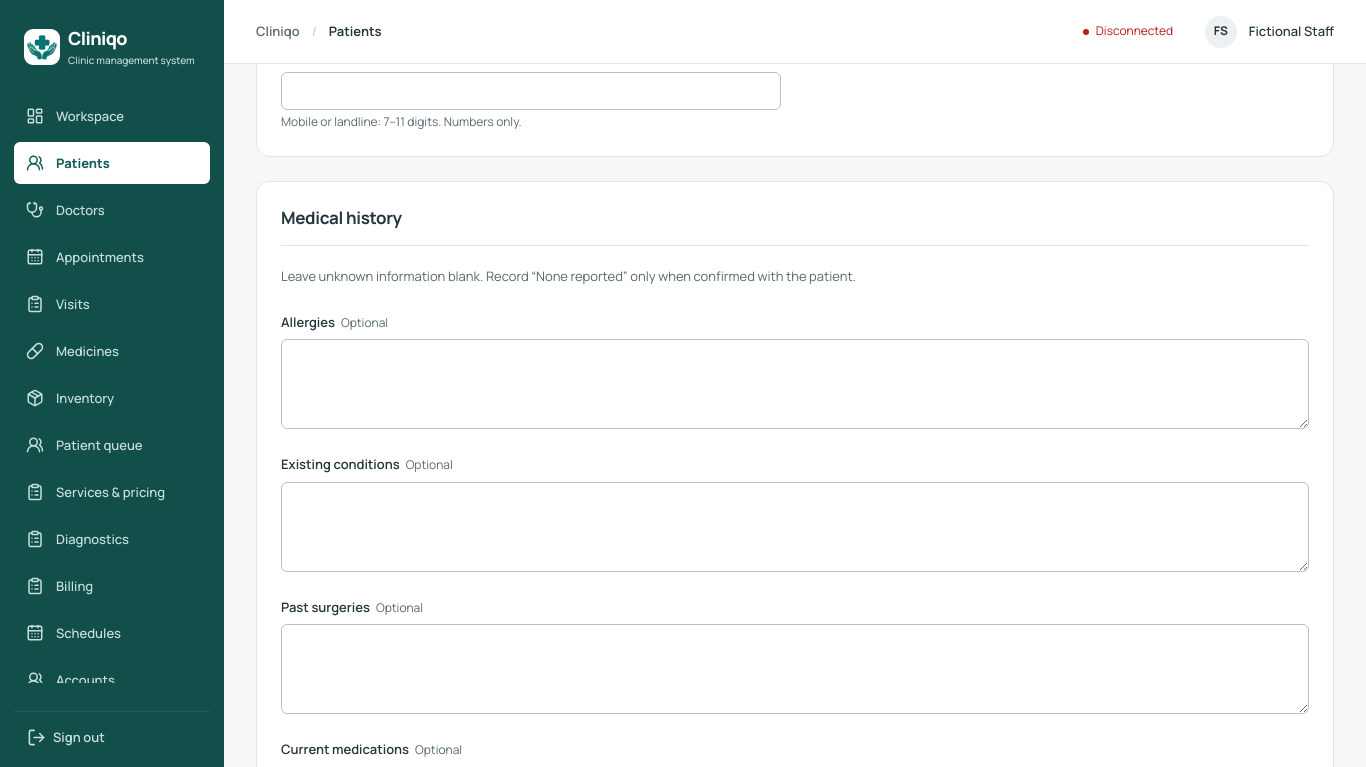
Test: patient and doctor workflows › preserves conflicting edits and warns before opening the latest record
The image size is (1366, 767).
(page scrolled)
Type "Unsaved allergy note" into the text box labelled "Allergies" at {"x": 795, "y": 384}, box [281,339,1309,429]
(page scrolled)
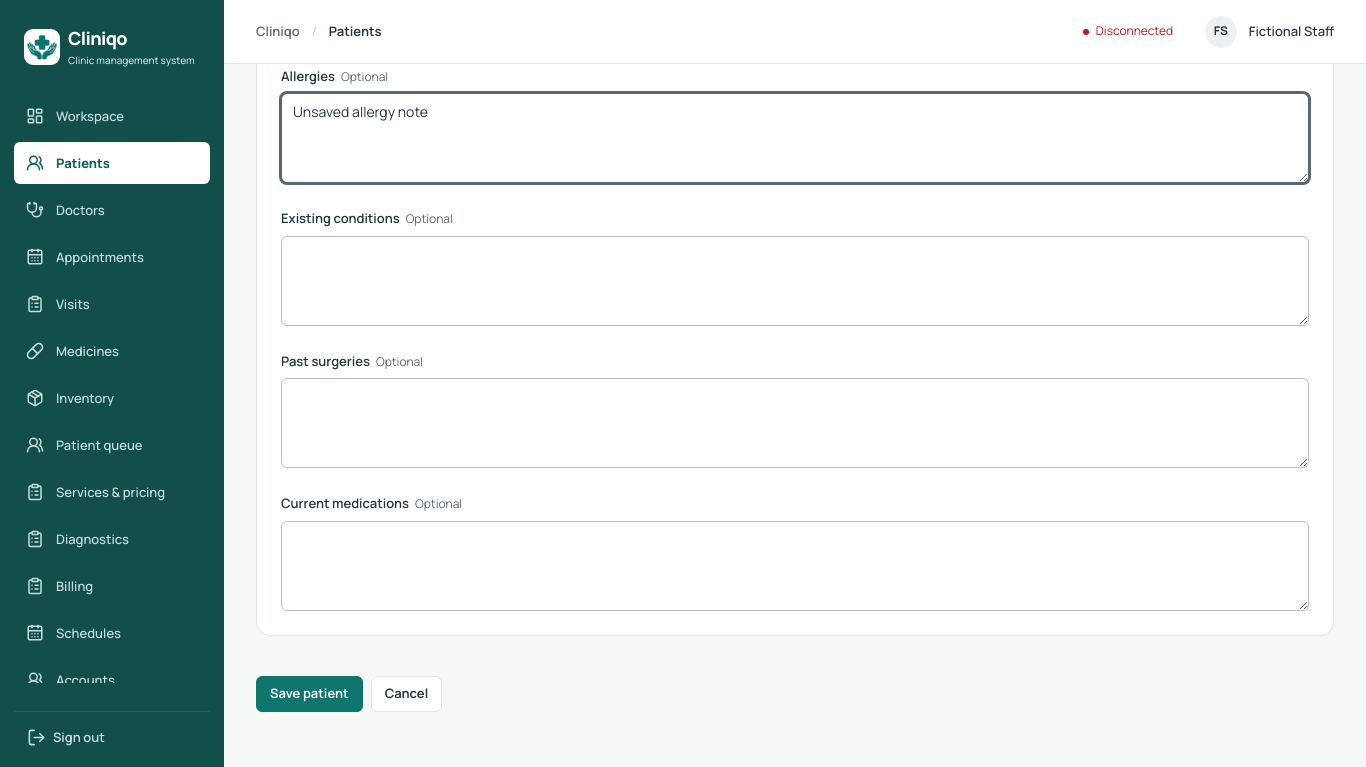
Click the button "Save patient" at {"x": 309, "y": 694}, box [256,676,363,712]
(page scrolled)
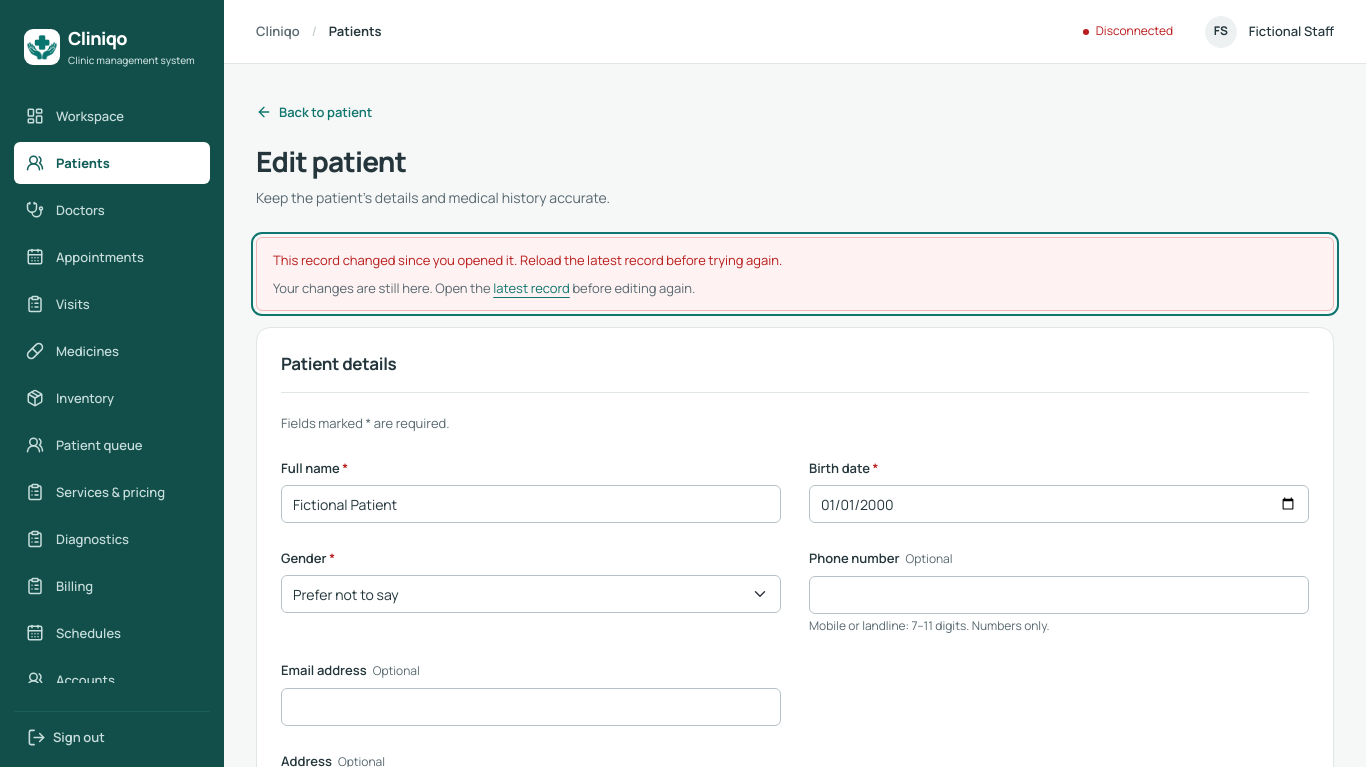
Now the text "This record changed since" is shown, box [273,251,782,269]
Click the link "latest record" at {"x": 532, "y": 288}, box [493,279,570,297]
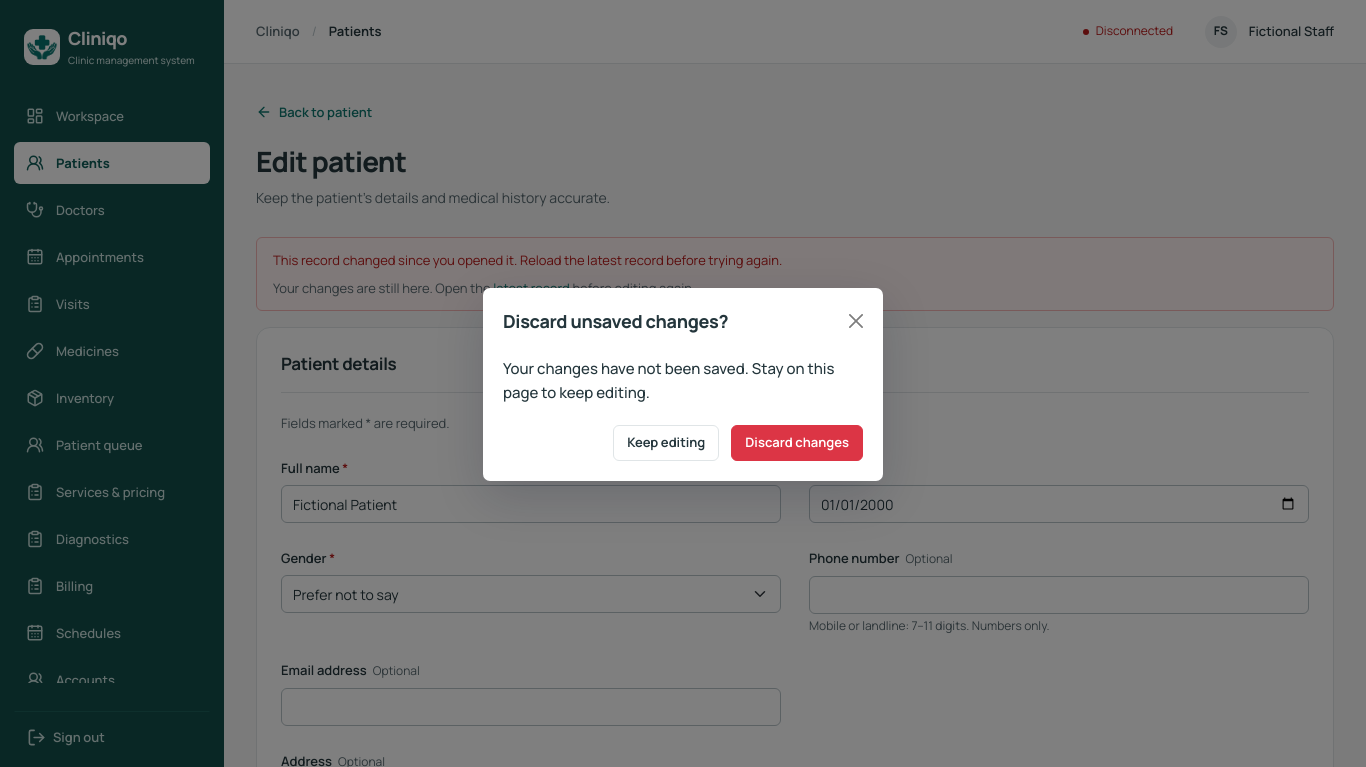
Now the dialog "Discard unsaved changes?" is shown, box [483,288,883,480]
